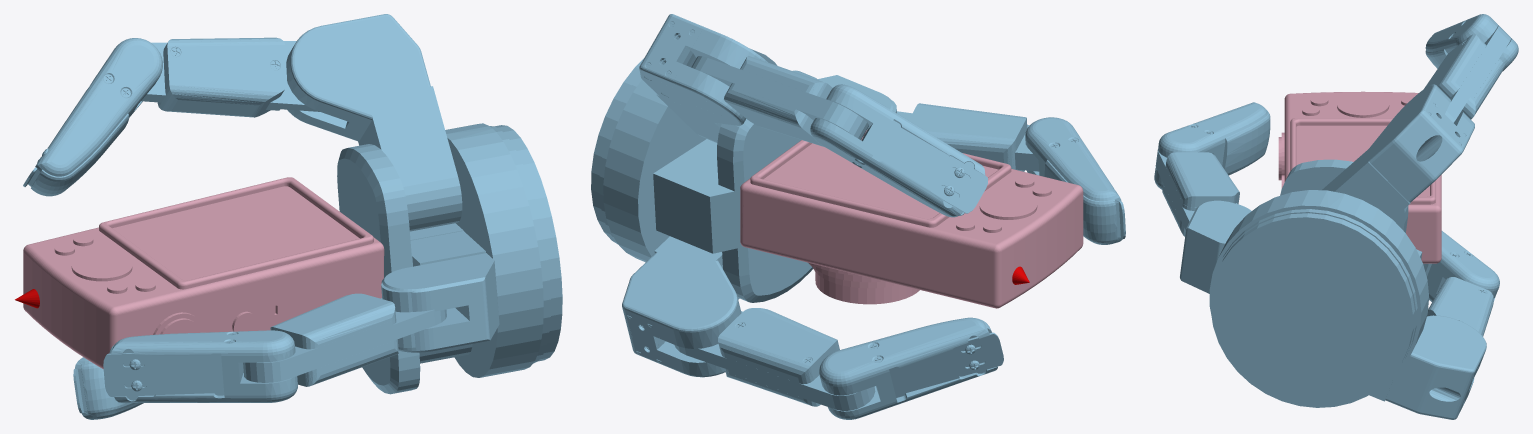
The picture shows the model from 3 angles, left to right: view 1: azimuth 30°, elevation 25°; view 2: azimuth 150°, elevation 25°; view 3: azimuth 270°, elevation 25°; orthographic projection. The views are drawn at different scales.
Visible parts, largest first — view 1: world, camera.stl; view 2: world, camera.stl; view 3: world, camera.stl.
Boxes of the visible parts, x1,y1,x2,y2 form: world: (15,14,562,419); camera.stl: (23,177,384,369); world: (591,14,1125,419); camera.stl: (740,130,1083,308); world: (1154,14,1518,419); camera.stl: (1278,91,1441,263).
Bounding box in the file's own units: 0.1936 × 0.1388 × 0.1502.
